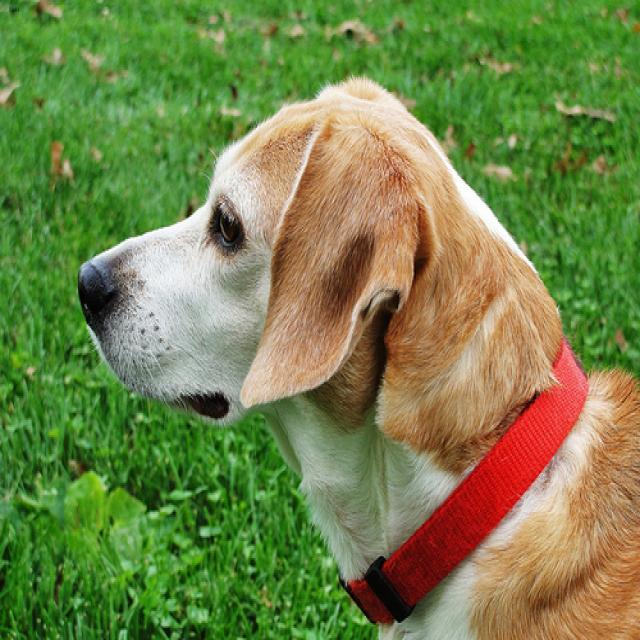dog-beagle: (69, 65, 637, 637)
